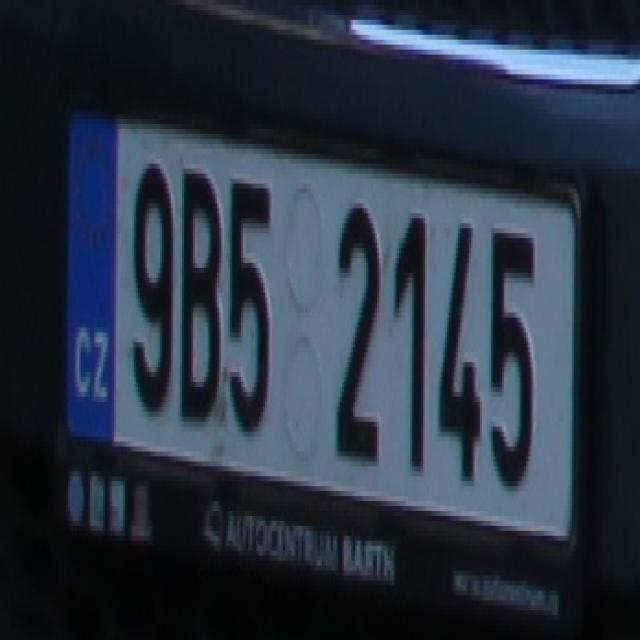1: (392, 208, 428, 476)
2: (331, 194, 379, 466)
4: (436, 218, 484, 482)
5: (487, 218, 537, 491), (226, 168, 274, 452)
9: (130, 149, 174, 422)
B: (176, 158, 222, 422)
